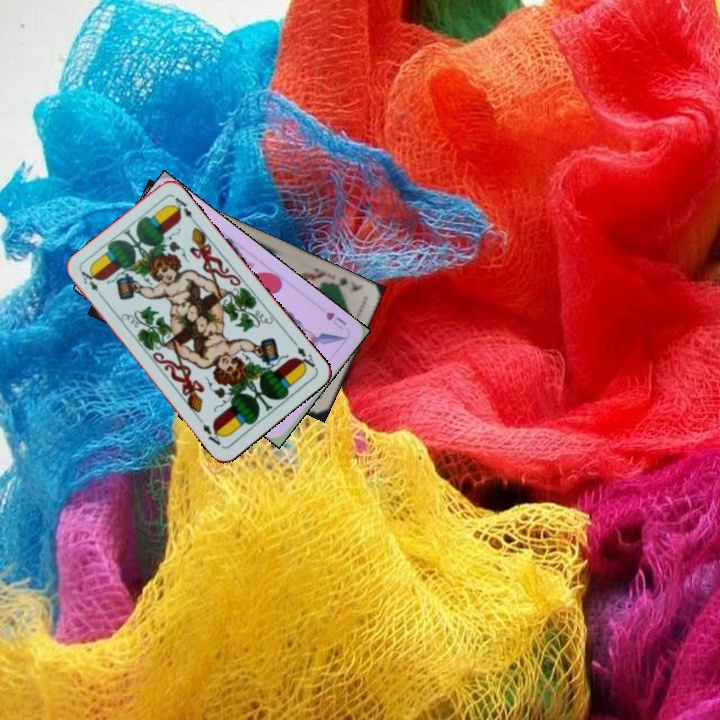EA: (289, 336, 319, 372), (77, 267, 101, 294)
GK: (325, 273, 365, 295)
HU: (322, 308, 349, 332)
